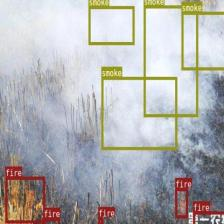fire: (5, 176, 45, 222), (192, 211, 224, 224), (175, 188, 187, 217), (43, 217, 60, 224), (98, 216, 102, 224)
smoke: (144, 5, 198, 116), (101, 76, 177, 149), (180, 11, 224, 68), (88, 6, 134, 44)
